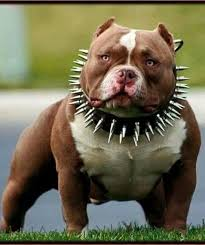Perro Pitbull: (33, 8, 205, 227)
